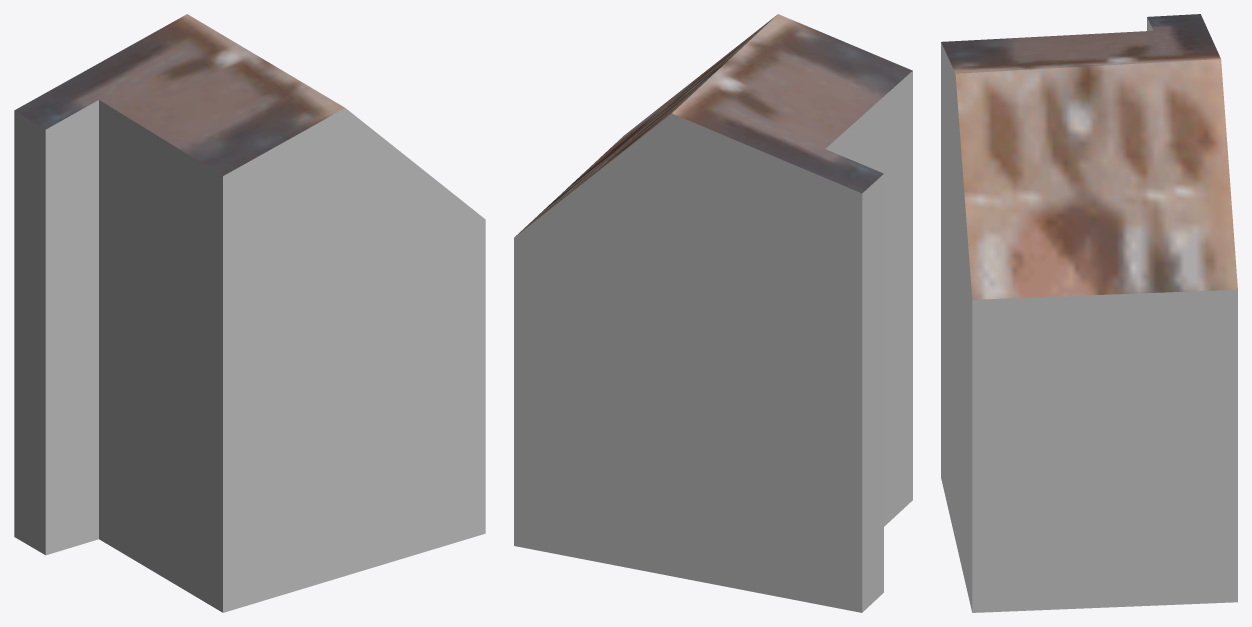
File: DEBW_0010007Tx8z.gltf
3 renders of one model, left to right at view 1: azimuth 30°, elevation 25°; view 2: azimuth 150°, elevation 25°; view 3: azimuth 270°, elevation 25°, orthographic.
Visible parts, largest first — view 1: Z_UP; view 2: Z_UP; view 3: Z_UP.
Part boxes in pixels (left/top/right/bottom): Z_UP: left=14, top=14, right=485, bottom=612; Z_UP: left=514, top=14, right=912, bottom=612; Z_UP: left=941, top=14, right=1237, bottom=612.
Bounding box in the file's own units: 14.47 × 18.22 × 10.45.
Materials: 2 (1 with a texture image).
